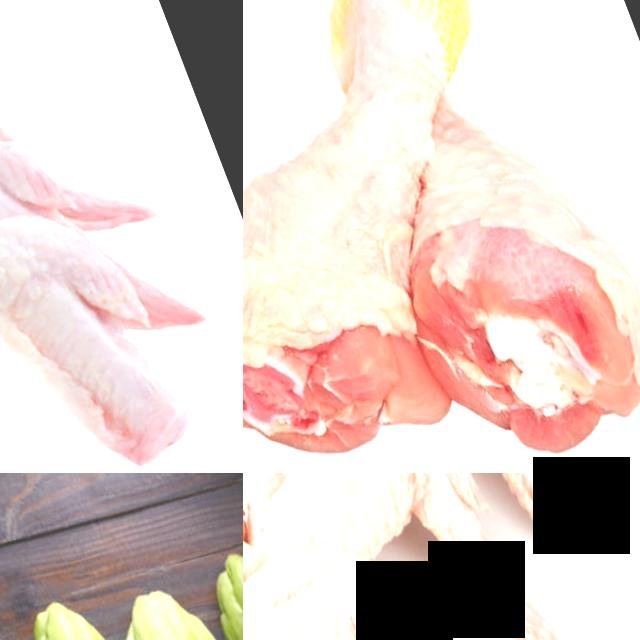chayote: (95, 540, 243, 640), (11, 569, 184, 640), (187, 494, 243, 640)
chicken thigh: (352, 62, 640, 473), (243, 0, 474, 473)
chicken wing: (0, 127, 196, 473), (0, 0, 159, 380), (243, 473, 555, 640), (243, 473, 532, 640)
